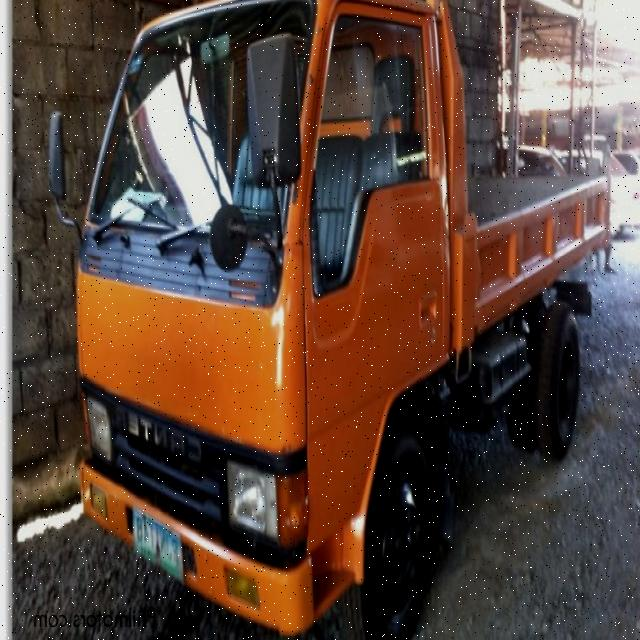truck: (50, 0, 613, 627)
